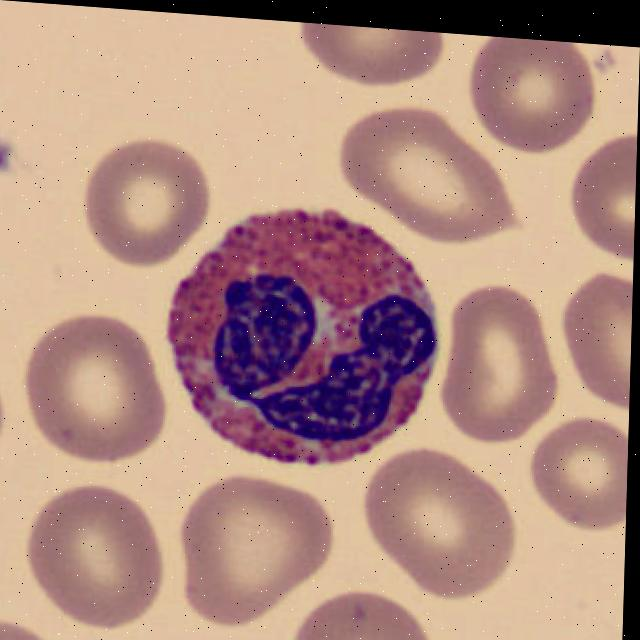eosinophil: (162, 195, 441, 485)
rbc: (171, 476, 347, 625), (353, 439, 520, 593), (22, 309, 172, 468), (29, 468, 165, 631), (340, 109, 507, 229), (79, 138, 219, 281), (440, 279, 560, 444), (464, 35, 614, 146), (530, 410, 629, 542), (556, 266, 633, 415), (292, 22, 450, 90), (563, 121, 637, 251), (286, 589, 439, 640), (0, 344, 7, 466)
